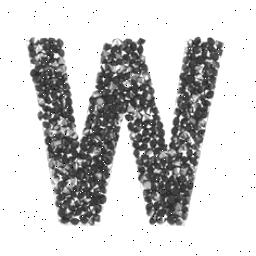w: (22, 32, 230, 230)
